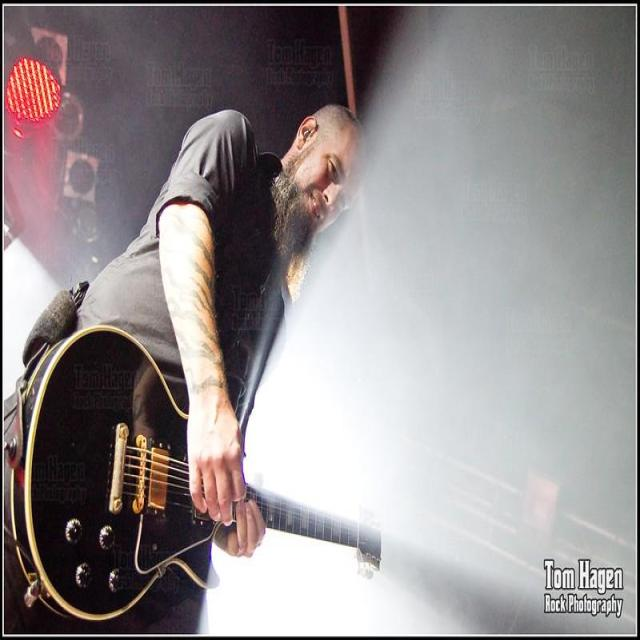guitar: (11, 327, 219, 621)
